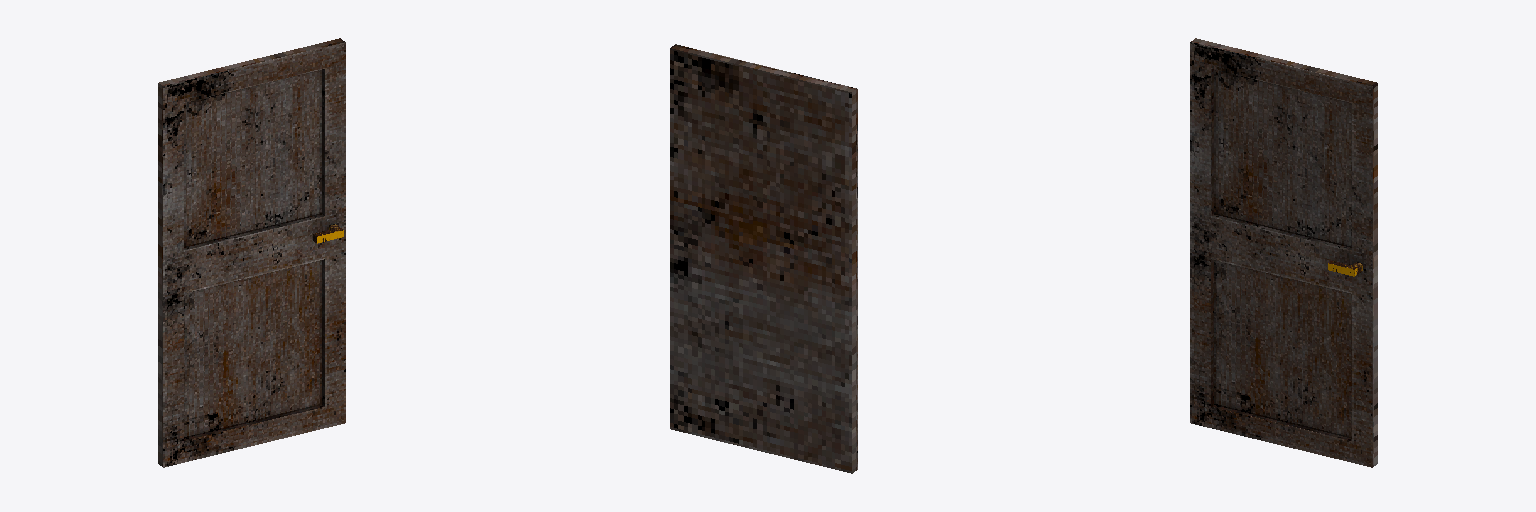
3 views of the same model, side by side, from view 1: azimuth 30°, elevation 25°; view 2: azimuth 150°, elevation 25°; view 3: azimuth 330°, elevation 25° (orthographic).
Parts seen in each view (by area): view 1: Plane.002; view 2: Plane.002; view 3: Plane.002.
Part boxes in pixels (x1,y1,x2,y2): Plane.002: (158,38,345,467); Plane.002: (670,44,857,473); Plane.002: (1190,38,1377,467).
Size of the model in its own units: 1.23 by 2.45 by 0.1559.
Materials: 1 (1 with a texture image).